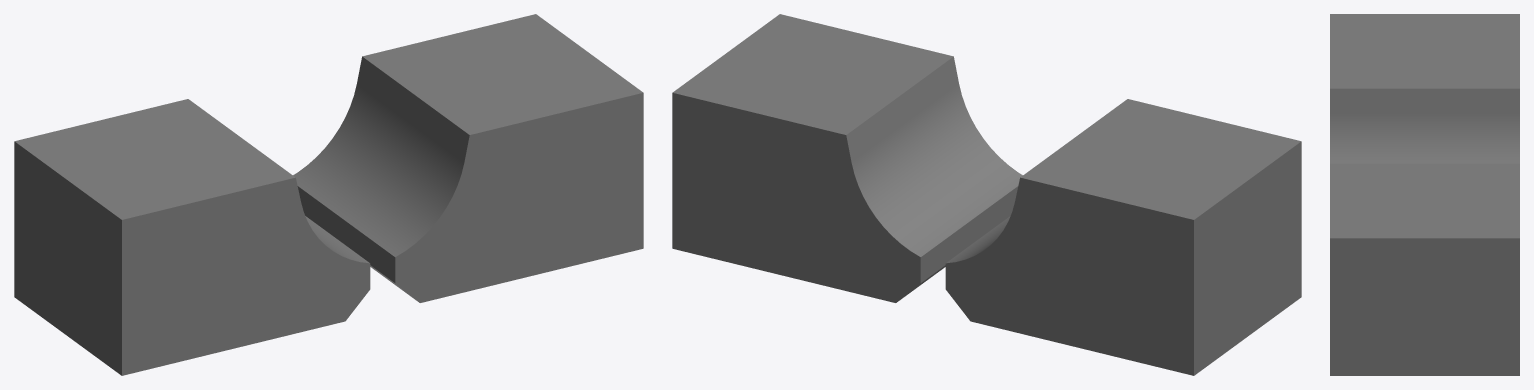
File: С40_Кромки.glb
3 views of the same model, side by side, from view 1: azimuth 30°, elevation 25°; view 2: azimuth 150°, elevation 25°; view 3: azimuth 270°, elevation 25° (orthographic). The views are drawn at different scales.
Parts seen in each view (by area): view 1: node_id3; view 2: node_id3; view 3: node_id3.
Boxes of the visible parts, <box> form: node_id3: <box>14,14,643,375</box>; node_id3: <box>672,14,1301,375</box>; node_id3: <box>1330,14,1519,375</box>.
Size of the model in its own units: 0.512 by 0.1463 by 0.1829.
1 material, 1 textured.
